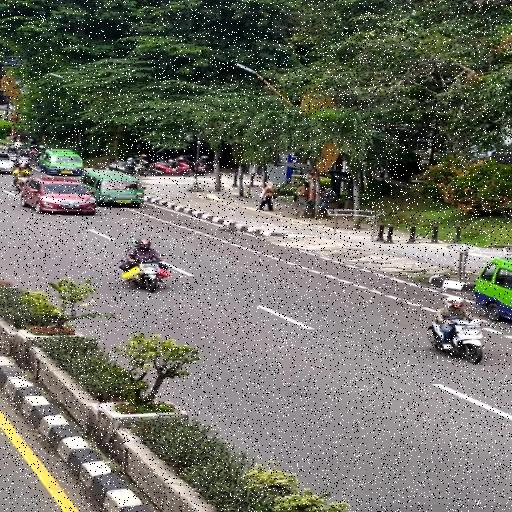Helmet: (445, 295, 464, 312), (142, 238, 152, 252), (18, 163, 26, 171)
Motor: (422, 319, 488, 365), (122, 261, 164, 291), (15, 176, 27, 192)
